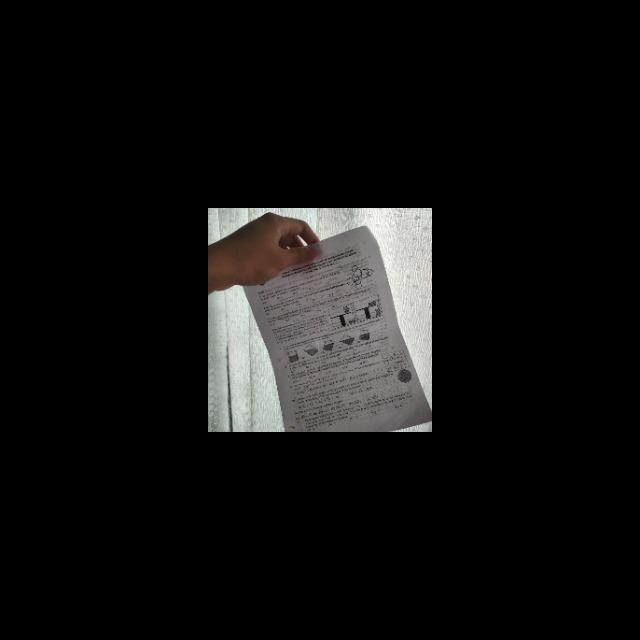paper: (225, 230, 432, 432)
